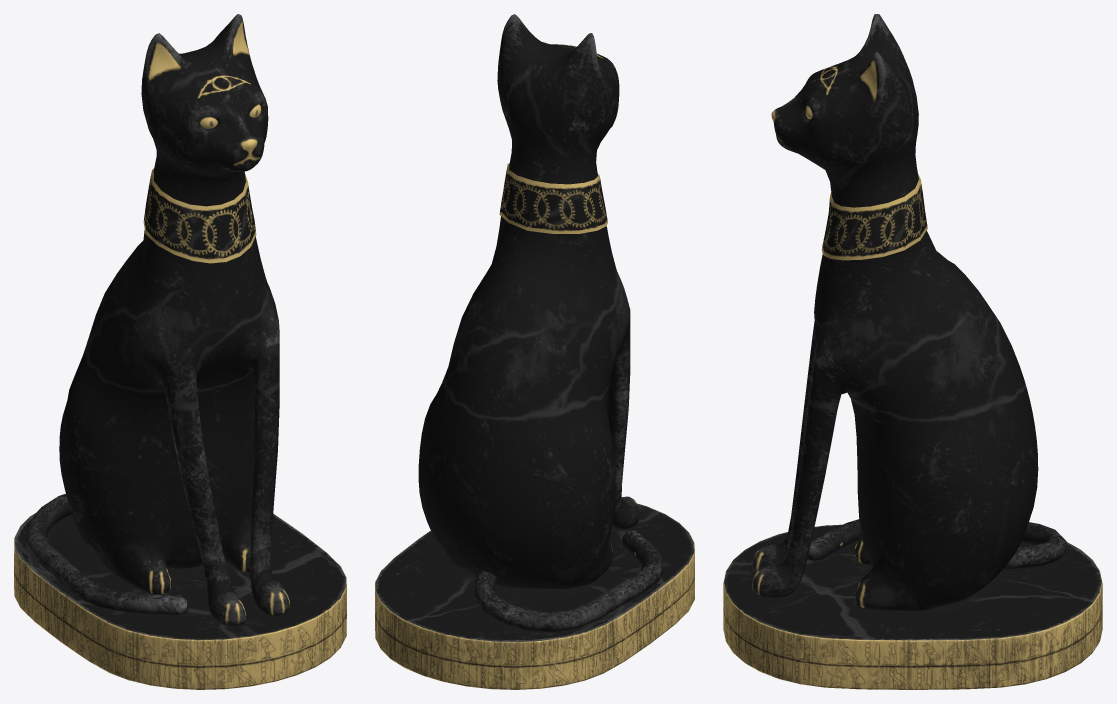
The picture shows the model from 3 angles, left to right: view 1: azimuth 30°, elevation 25°; view 2: azimuth 150°, elevation 25°; view 3: azimuth 270°, elevation 25°; orthographic projection. The views are drawn at different scales.
Parts seen in each view (by area): view 1: Cat_Statue; view 2: Cat_Statue; view 3: Cat_Statue.
Boxes of the visible parts, bbox=[...] form: Cat_Statue: bbox=[14, 14, 346, 689]; Cat_Statue: bbox=[375, 14, 694, 689]; Cat_Statue: bbox=[723, 14, 1102, 689].
Bounding box in the file's own units: 40.47 × 95.99 × 55.1.
1 material, 1 textured.
